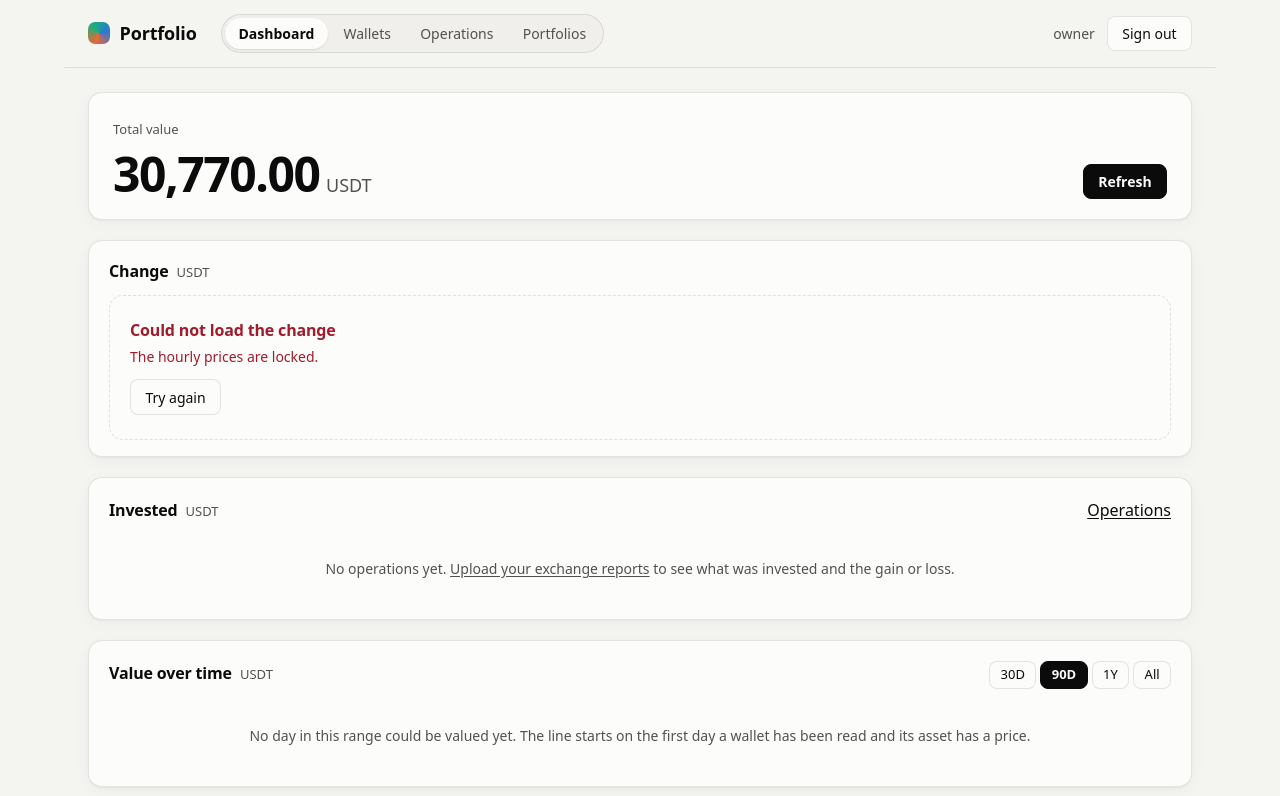
Test: DashboardPage: the change over 24 hours and 7 days › says the change could not be read, and reads it again on request
Expected: the heading "Could not load the change" is shown, [130,319,336,341]
Expected: the message shows "The hourly prices are locked.", [130,347,318,366]
Step 1. Click the button "Try again" → point(176, 397), box [130,379,221,415]
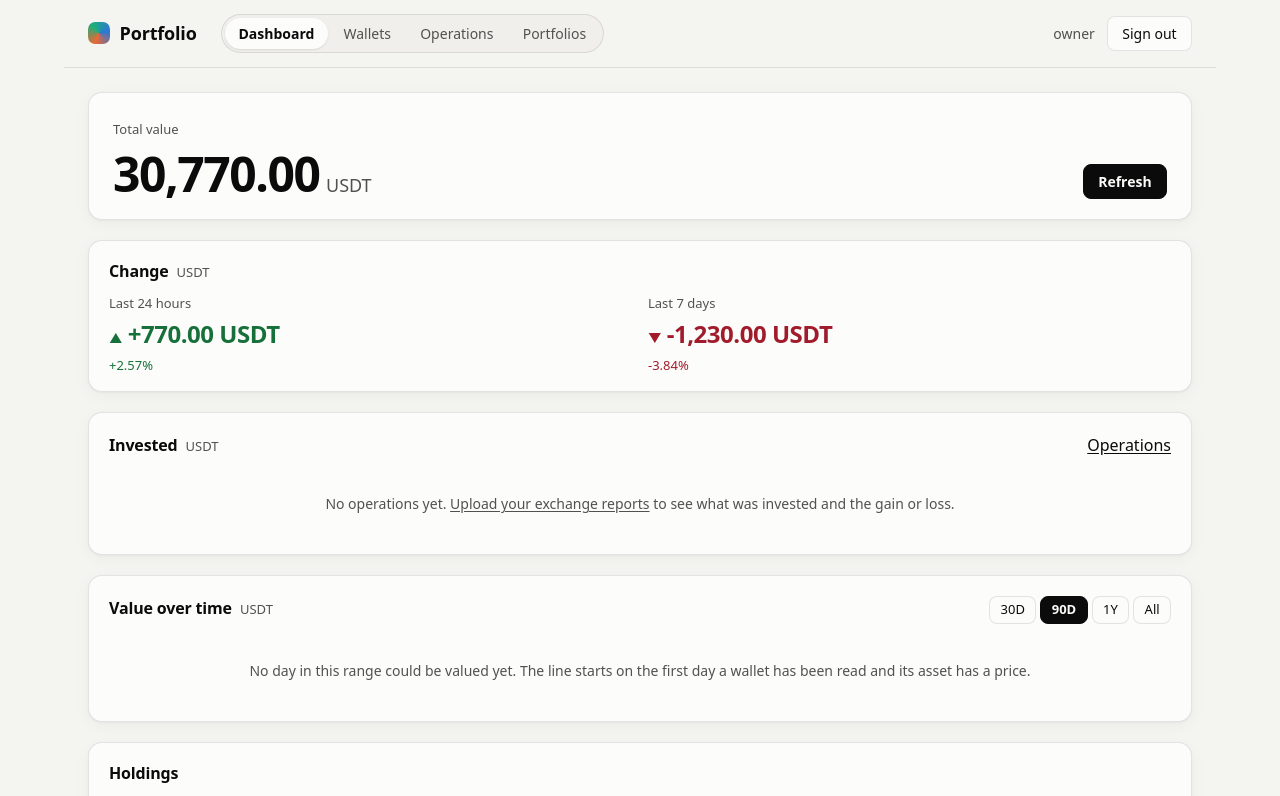
Now the text "+770.00 USDT" is shown, box [128,317,280,350]
Now the message "Could not load the change The hourly prices are locked. Try again" is gone
